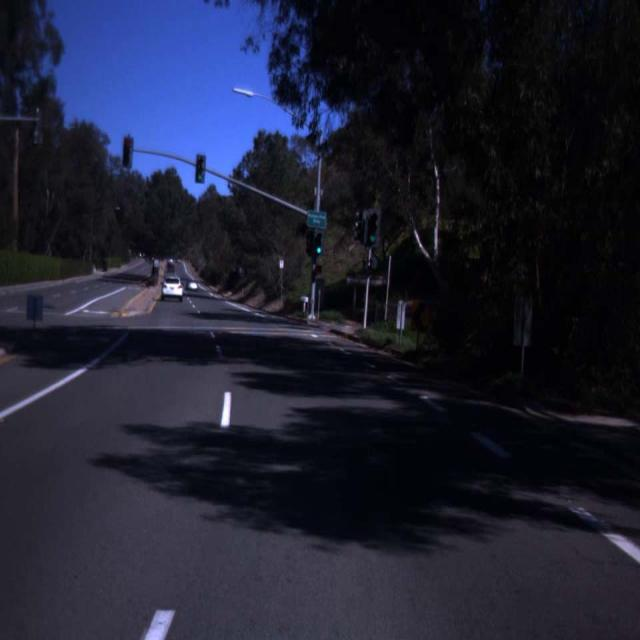yesil: (363, 207, 381, 246), (196, 155, 206, 185), (313, 230, 323, 256)
